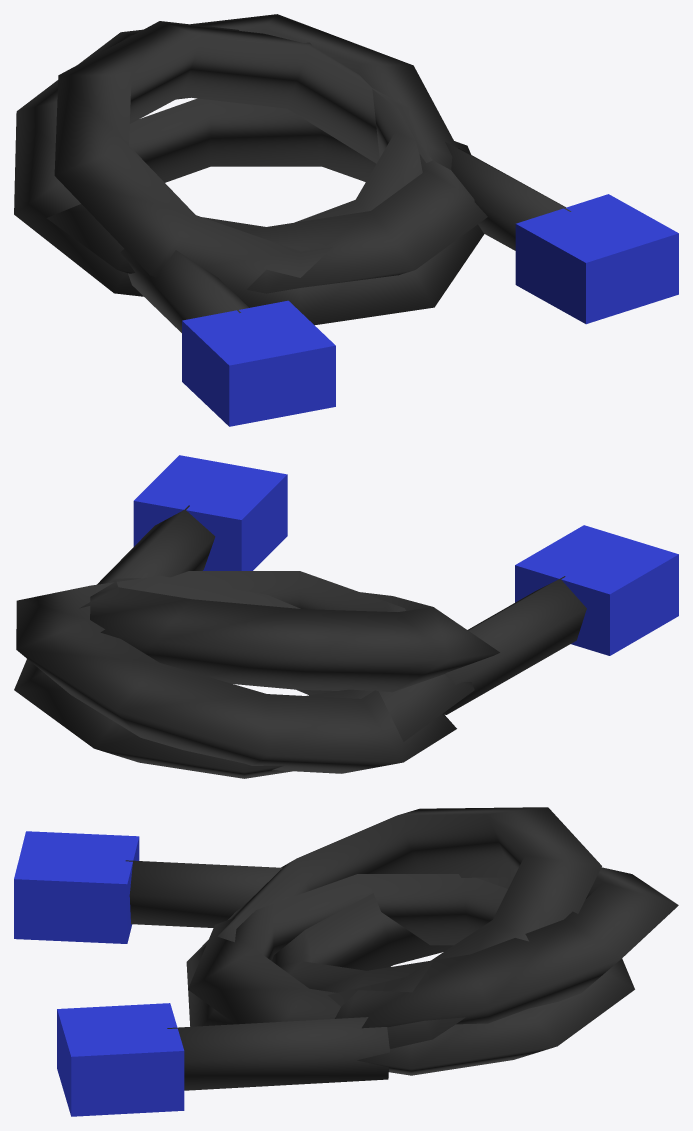
The model's file is wire.fbx.
3 views of the same model, one above another, from view 1: azimuth 30°, elevation 25°; view 2: azimuth 150°, elevation 25°; view 3: azimuth 270°, elevation 25° (orthographic). The views are drawn at different scales.
Parts seen in each view (by area): view 1: Torus.002, Torus, Torus.001, Cube, Cube.001, Cylinder.001, Cylinder; view 2: Torus.001, Torus.002, Torus, Cube.001, Cube, Cylinder.001, Cylinder; view 3: Torus.001, Torus, Torus.002, Cube, Cylinder, Cube.001, Cylinder.001.
Part boxes in pixels (bbox=[...]): Torus.002: bbox=[54, 21, 484, 325]; Torus: bbox=[46, 98, 487, 293]; Torus.001: bbox=[14, 14, 457, 296]; Cube: bbox=[515, 194, 678, 324]; Cube.001: bbox=[182, 300, 335, 426]; Cylinder.001: bbox=[120, 249, 248, 332]; Cylinder: bbox=[445, 142, 571, 250]; Torus.001: bbox=[16, 575, 456, 773]; Torus.002: bbox=[79, 578, 499, 692]; Torus: bbox=[14, 571, 474, 778]; Cube.001: bbox=[515, 525, 678, 655]; Cube: bbox=[133, 455, 287, 570]; Cylinder.001: bbox=[442, 576, 586, 714]; Cylinder: bbox=[97, 505, 215, 584]; Torus.001: bbox=[272, 867, 678, 1028]; Torus: bbox=[188, 874, 634, 1075]; Torus.002: bbox=[186, 807, 601, 1048]; Cube: bbox=[57, 1003, 184, 1116]; Cylinder: bbox=[167, 1017, 389, 1090]; Cube.001: bbox=[14, 831, 139, 943]; Cylinder.001: bbox=[125, 860, 282, 927].
Size of the model in its own units: 49.32 by 17.29 by 61.42.
